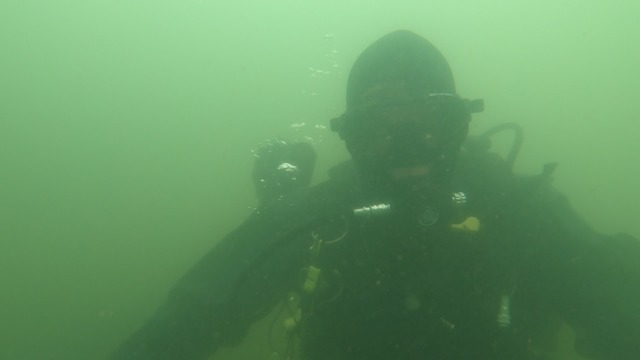Diver: (122, 10, 631, 354)
Head: (315, 24, 495, 203)
